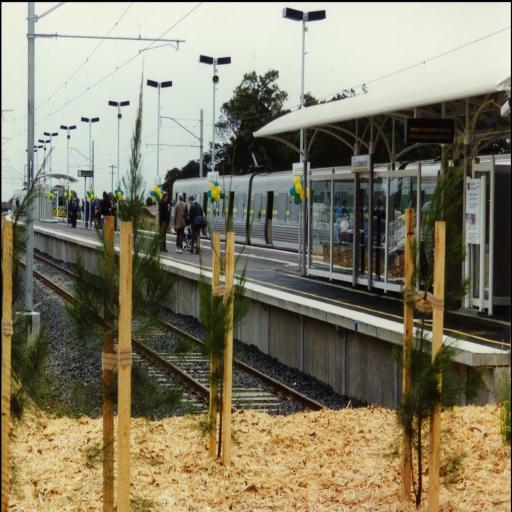platform_edge: (250, 267, 402, 338), (158, 248, 214, 295), (40, 216, 110, 253)
